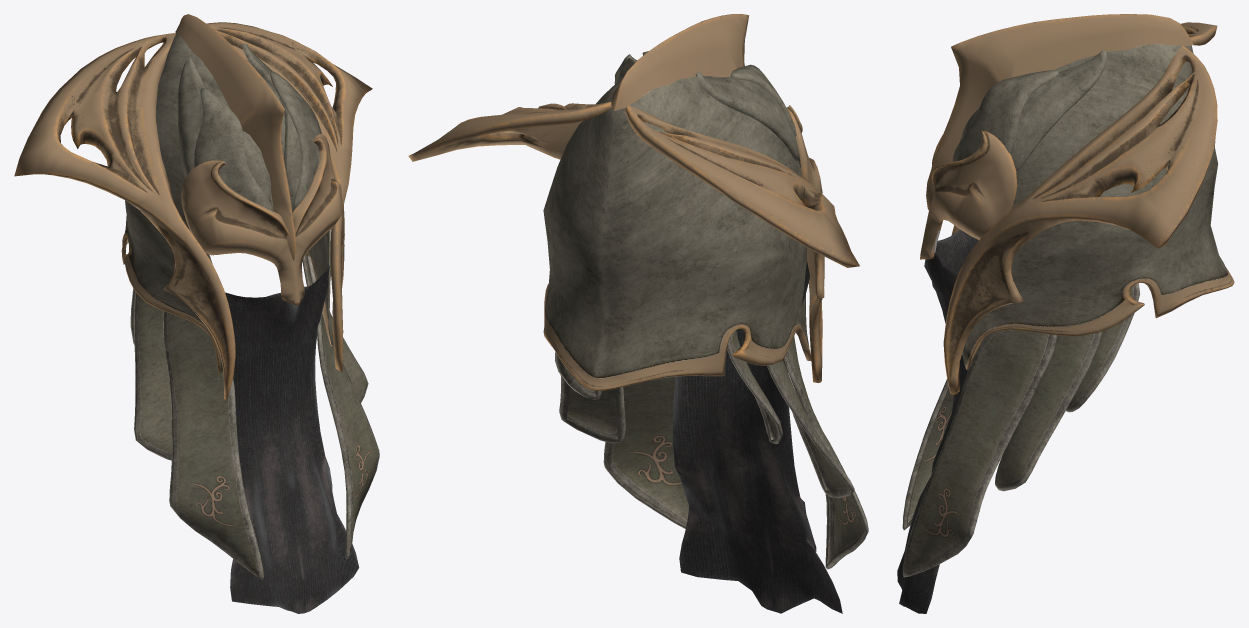
File: mkwd_palace_t3_helmet_green_hc.fbx
3 views of the same model, side by side, from view 1: azimuth 30°, elevation 25°; view 2: azimuth 150°, elevation 25°; view 3: azimuth 270°, elevation 25° (orthographic). The views are drawn at different scales.
Parts seen in each view (by area): view 1: mkwd_palace_t3_helmet_green_hc.lod0.1, mkwd_palace_t3_helmet_green_hc.lod0.0; view 2: mkwd_palace_t3_helmet_green_hc.lod0.1, mkwd_palace_t3_helmet_green_hc.lod0.0; view 3: mkwd_palace_t3_helmet_green_hc.lod0.1, mkwd_palace_t3_helmet_green_hc.lod0.0.
Boxes of the visible parts, bbox=[...] form: mkwd_palace_t3_helmet_green_hc.lod0.1: bbox=[14, 14, 372, 399]; mkwd_palace_t3_helmet_green_hc.lod0.0: bbox=[130, 254, 379, 613]; mkwd_palace_t3_helmet_green_hc.lod0.1: bbox=[408, 14, 859, 391]; mkwd_palace_t3_helmet_green_hc.lod0.0: bbox=[555, 261, 868, 613]; mkwd_palace_t3_helmet_green_hc.lod0.1: bbox=[920, 14, 1234, 394]; mkwd_palace_t3_helmet_green_hc.lod0.0: bbox=[897, 229, 1139, 613].
Size of the model in its own units: 0.4141 by 0.2957 by 0.5707.
2 materials, 2 textured.
